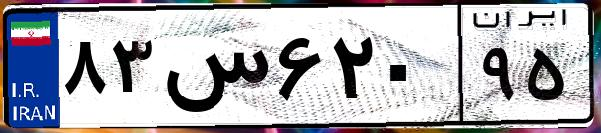0: (385, 28, 445, 110)
2: (330, 28, 385, 110)
3: (110, 28, 158, 98)
5: (525, 38, 570, 115)
6: (270, 28, 330, 110)
8: (57, 26, 110, 100)
9: (475, 38, 525, 113)
س: (158, 20, 270, 120)
